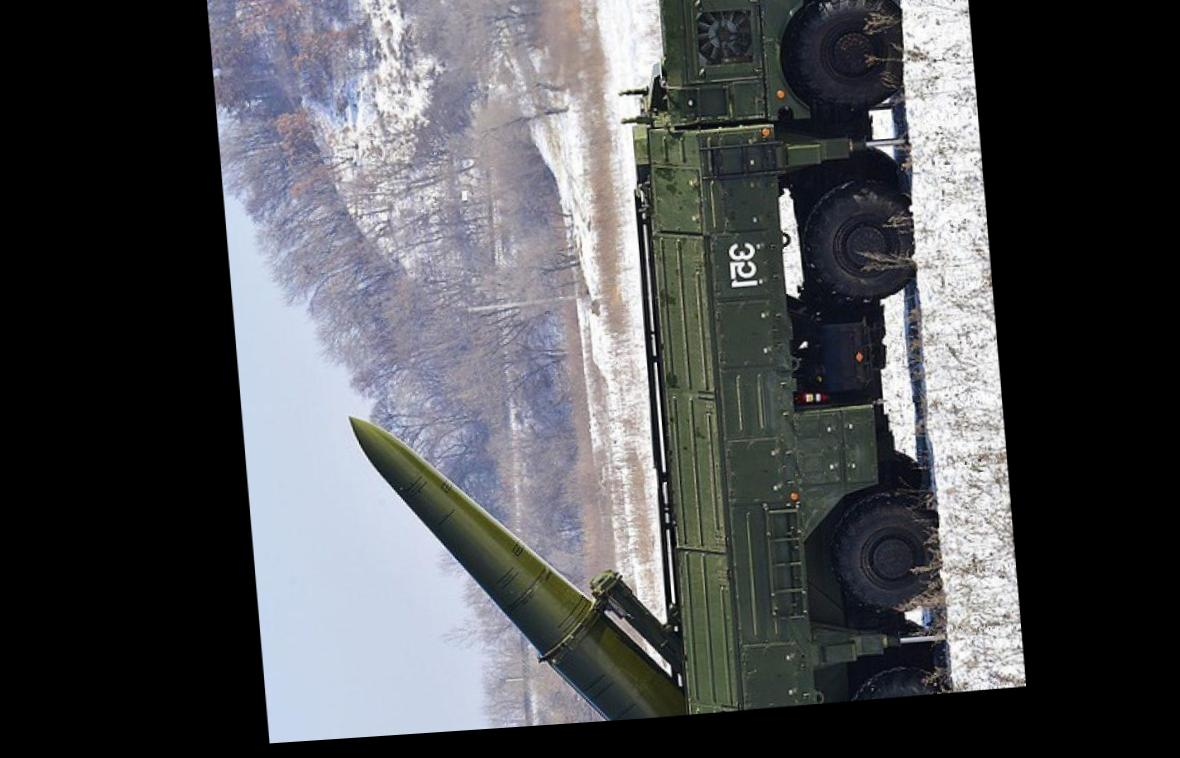rszo: (600, 0, 959, 717)
